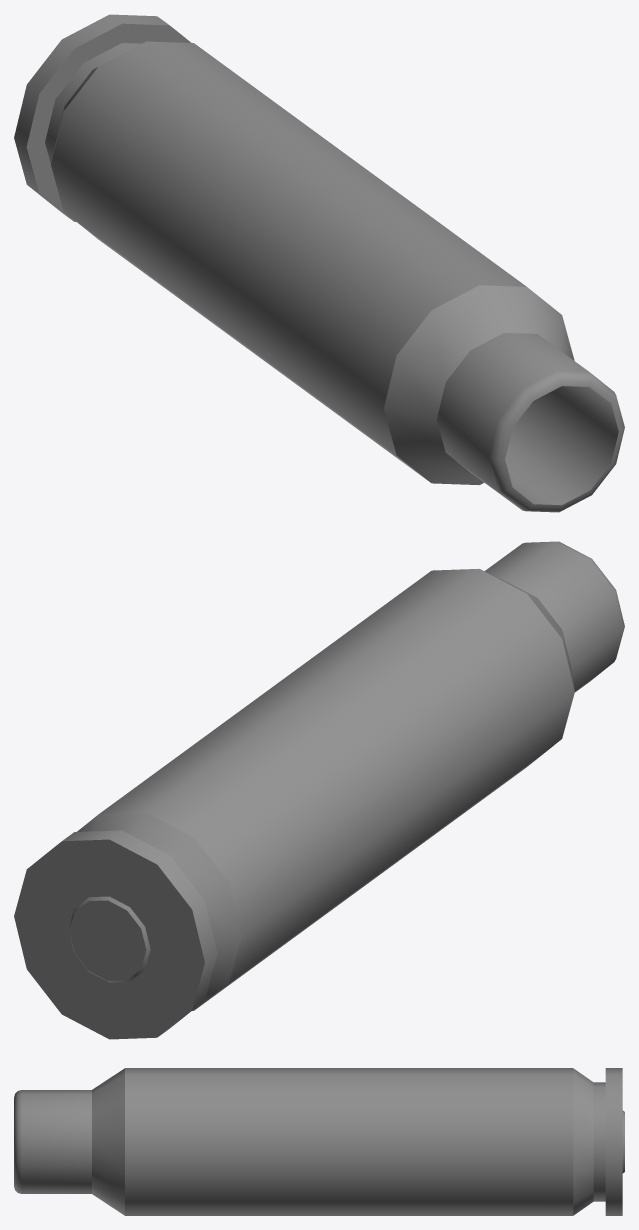
Rendered from BulletCasing.fbx.
The picture shows the model from 3 angles, top to bottom: view 1: azimuth 30°, elevation 25°; view 2: azimuth 150°, elevation 25°; view 3: azimuth 270°, elevation 25°; orthographic projection. The views are drawn at different scales.
Visible parts, largest first — view 1: Magazine.002; view 2: Magazine.002; view 3: Magazine.002.
Boxes of the visible parts, x1,y1,x2,y2 form: Magazine.002: (14, 14, 624, 512); Magazine.002: (14, 541, 624, 1039); Magazine.002: (14, 1068, 624, 1215).
Bounding box in the file's own units: 59.64 × 59.64 × 246.
1 material, 1 textured.
